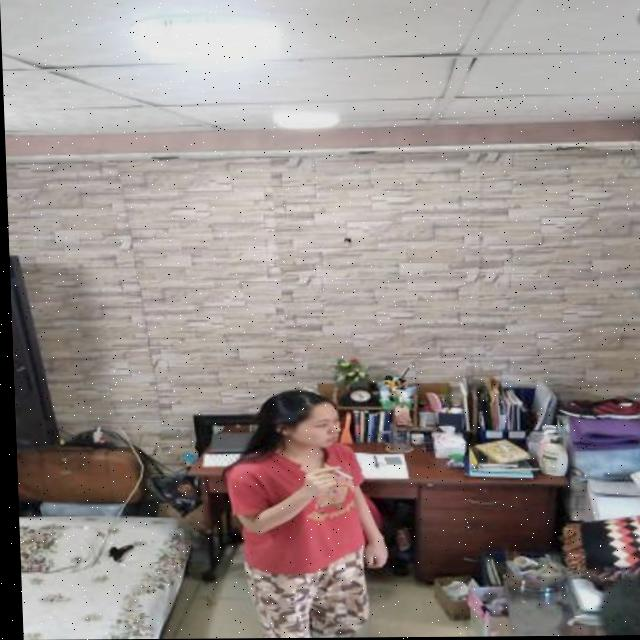cigarette: (331, 468, 349, 480)
